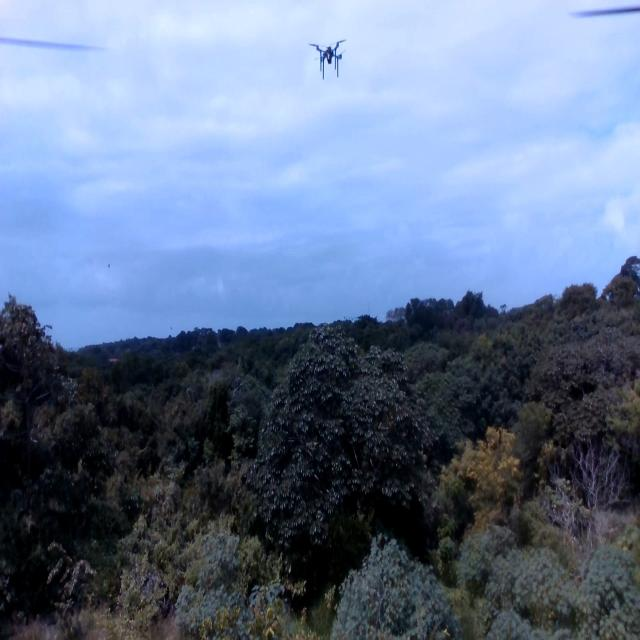-uav-: (304, 30, 355, 89)
